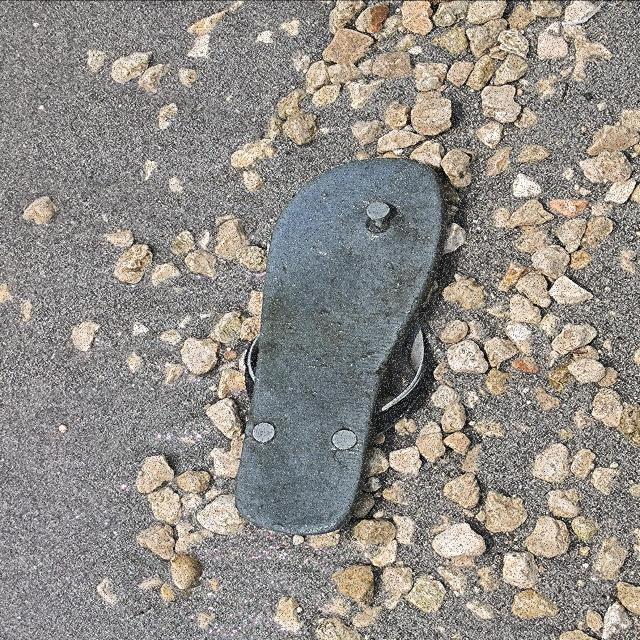rubber_waste: (234, 157, 450, 537)
